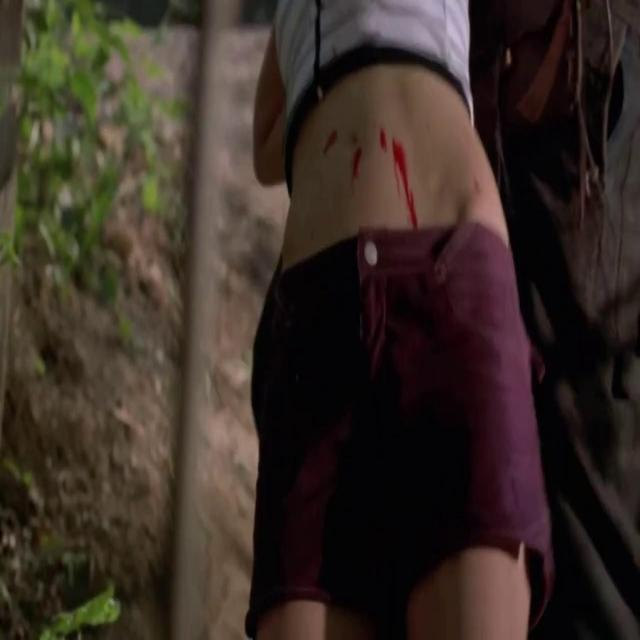flood: (337, 132, 418, 204)
